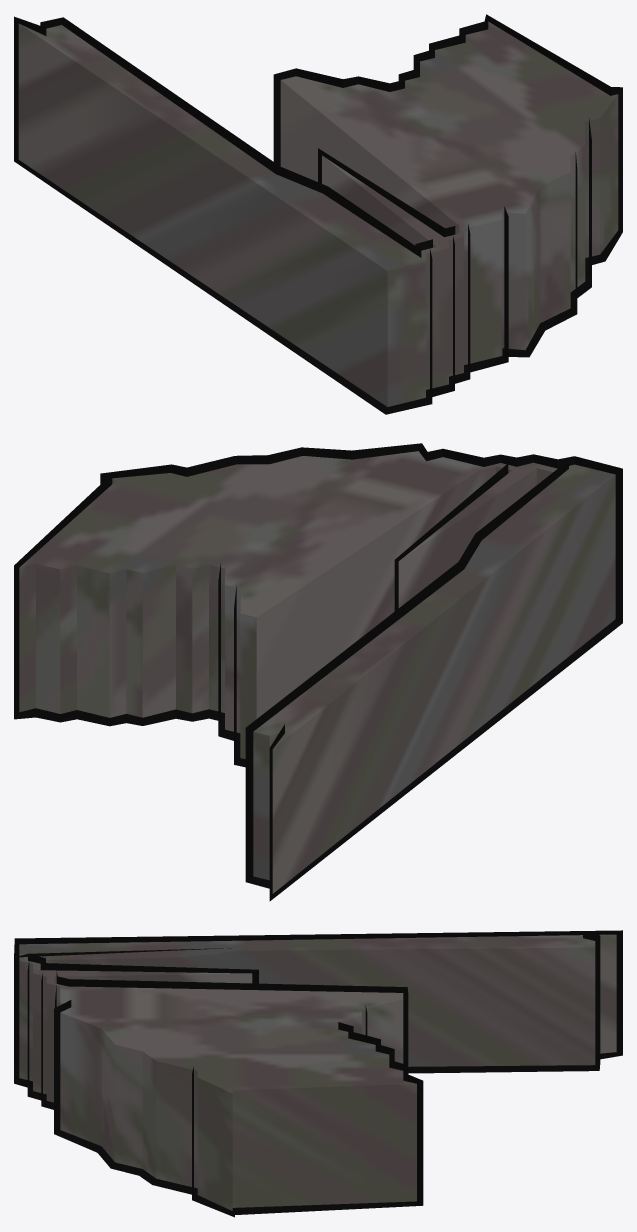
Rendered from Building_FloorEtchingRambling_Things_Filth_FloorEtchings_FloorEtchingM.glb.
3 views of the same model, one above another, from view 1: azimuth 30°, elevation 25°; view 2: azimuth 150°, elevation 25°; view 3: azimuth 270°, elevation 25° (orthographic). The views are drawn at different scales.
Visible parts, largest first — view 1: Body, Outline; view 2: Body, Outline; view 3: Body, Outline.
Part boxes in pixels (x1,y1,x2,y2): Body: [18, 21, 618, 406]; Outline: [14, 14, 622, 414]; Body: [19, 451, 615, 893]; Outline: [14, 443, 622, 901]; Body: [19, 934, 616, 1210]; Outline: [14, 930, 622, 1217].
Size of the model in its own units: 0.7795 by 0.2949 by 1.24.
2 materials, 1 textured.
